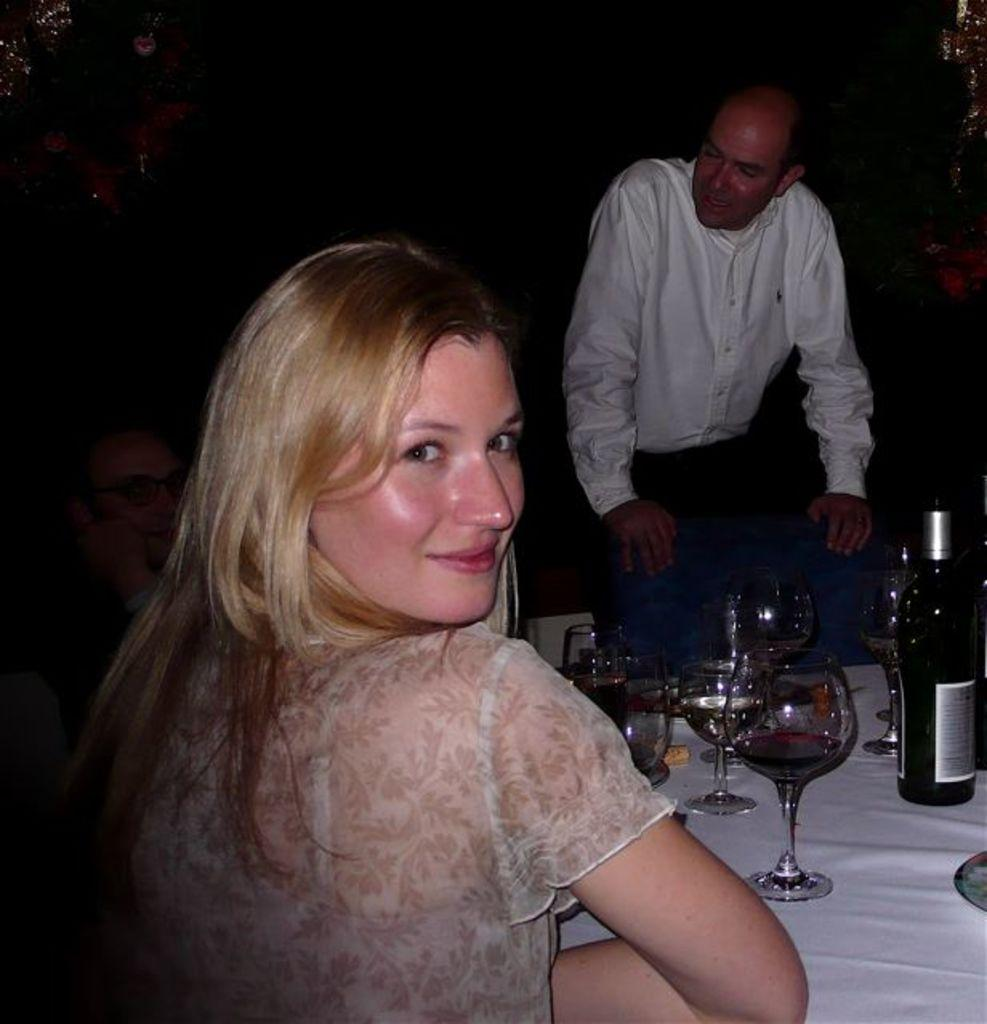Sem Máscara: (296, 327, 527, 609), (686, 96, 804, 237)
